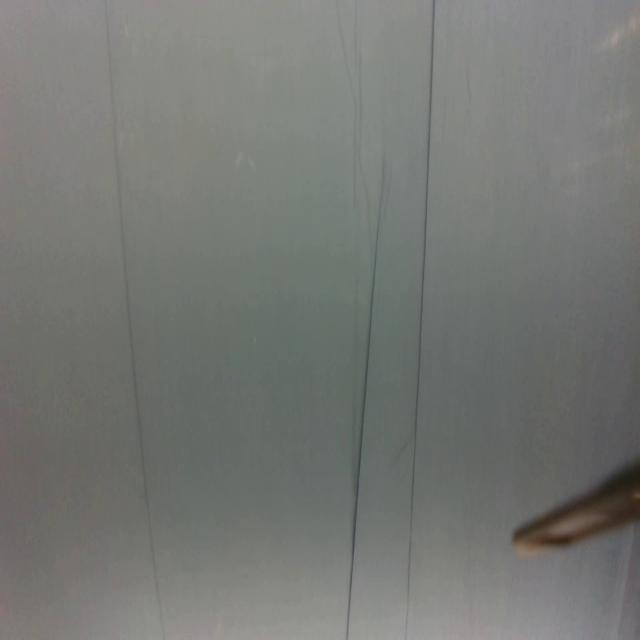crease: (104, 0, 164, 640), (402, 0, 437, 639), (345, 159, 385, 640)
